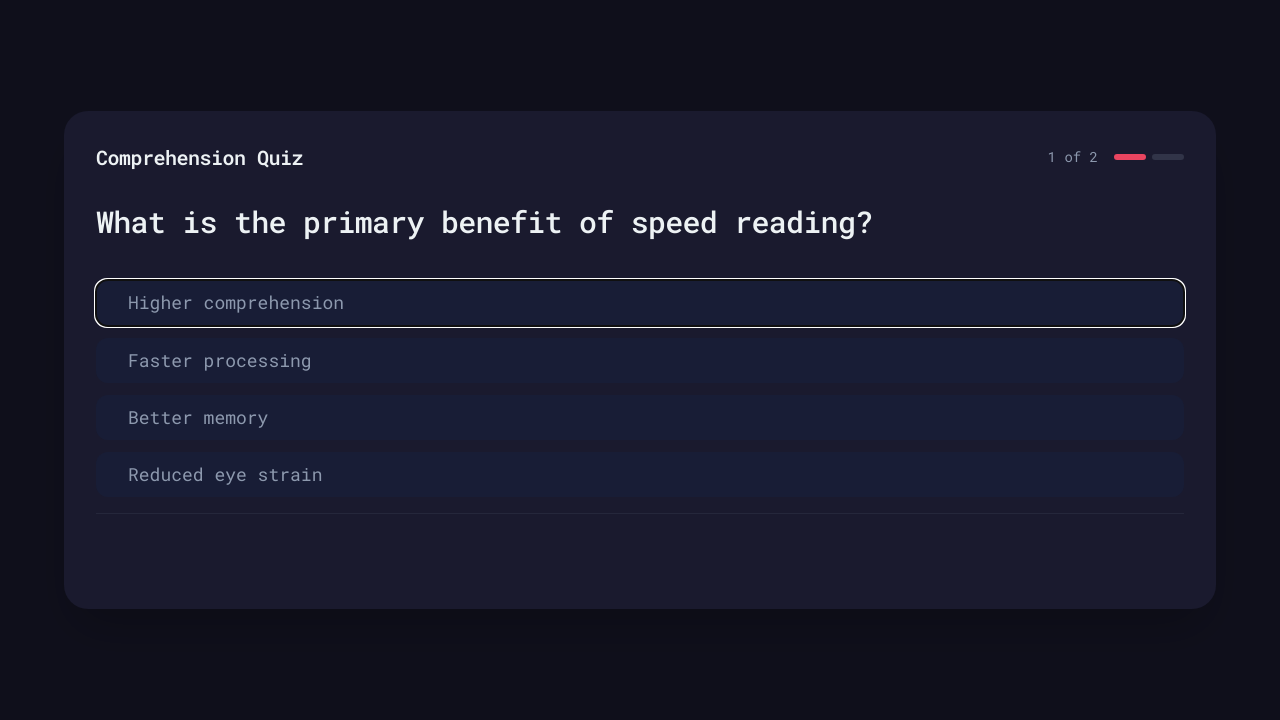
QuizModal › Anonymous User Flow › shows "Close" instead of "Save & Close" for anonymous users
Expected: the heading "Comprehension Quiz" is shown, [96,143,303,171]
Click the button "Higher comprehension": (236, 302) [96,280,1184,326]
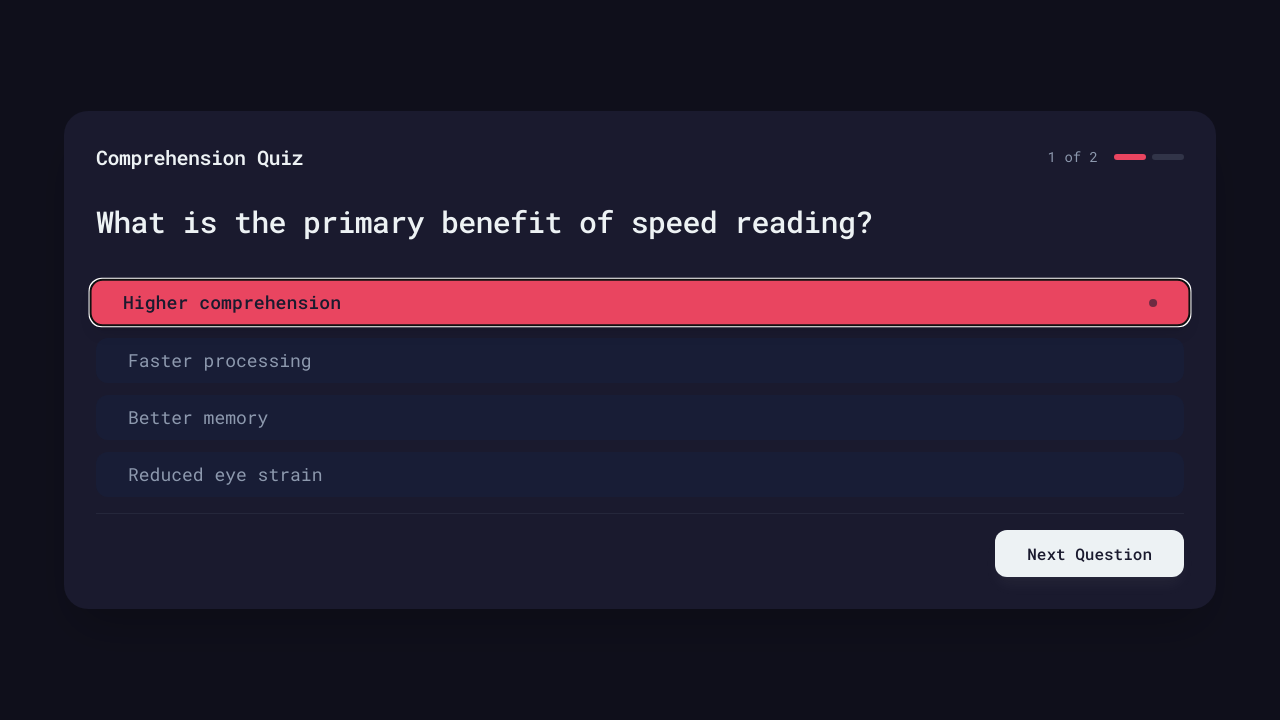
Click the button "Next Question": (1090, 554) [995,530,1184,577]
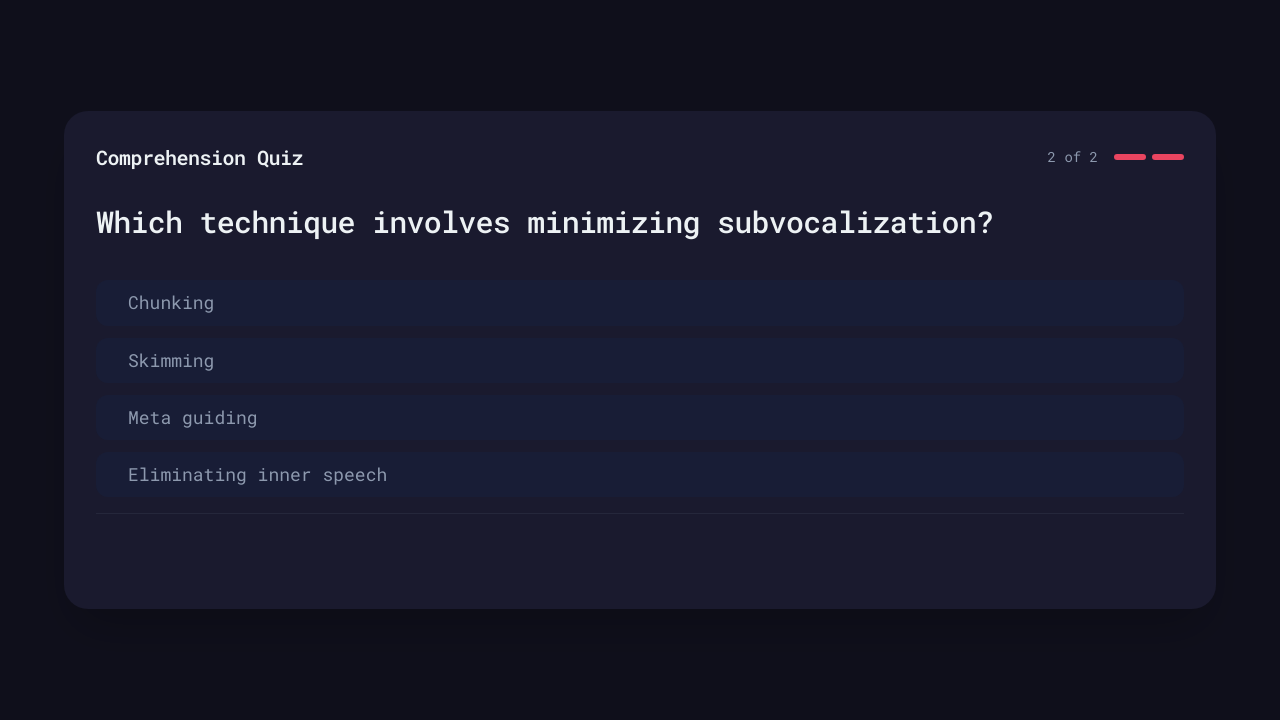
Click the button "Chunking": (171, 302) [96,280,1184,326]
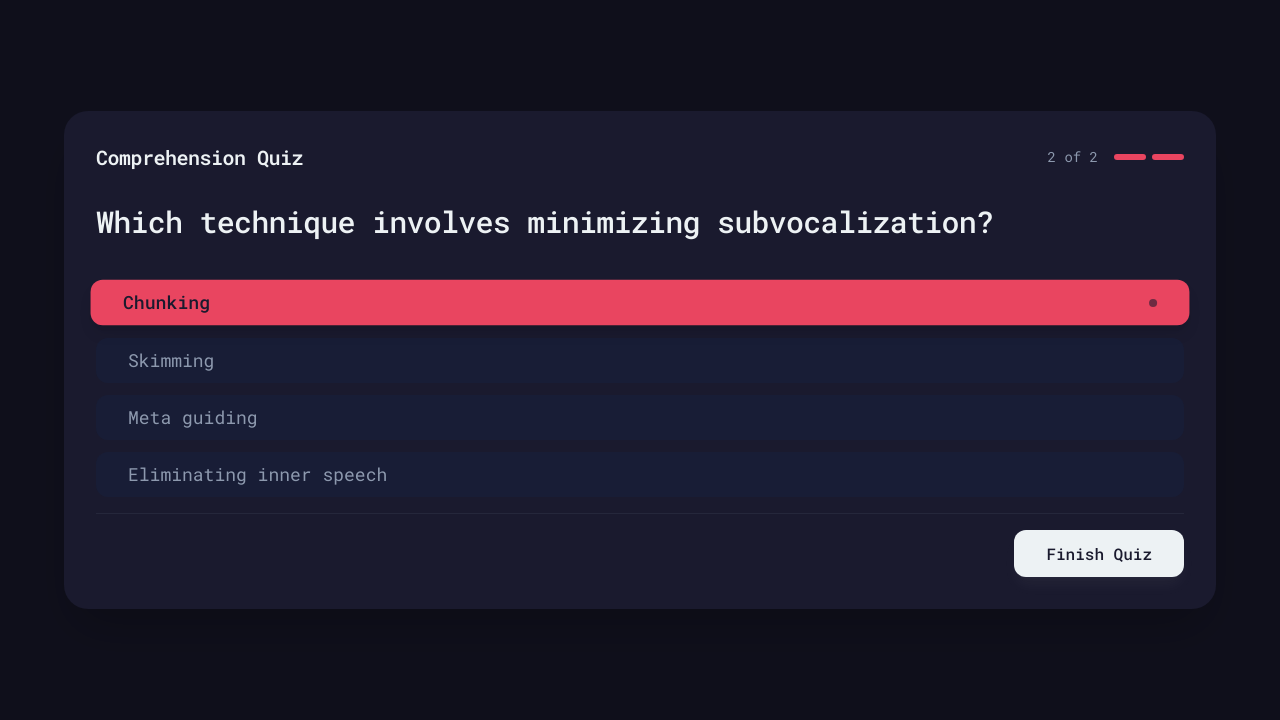
Click the button "Finish Quiz": (1099, 554) [1014,530,1184,577]
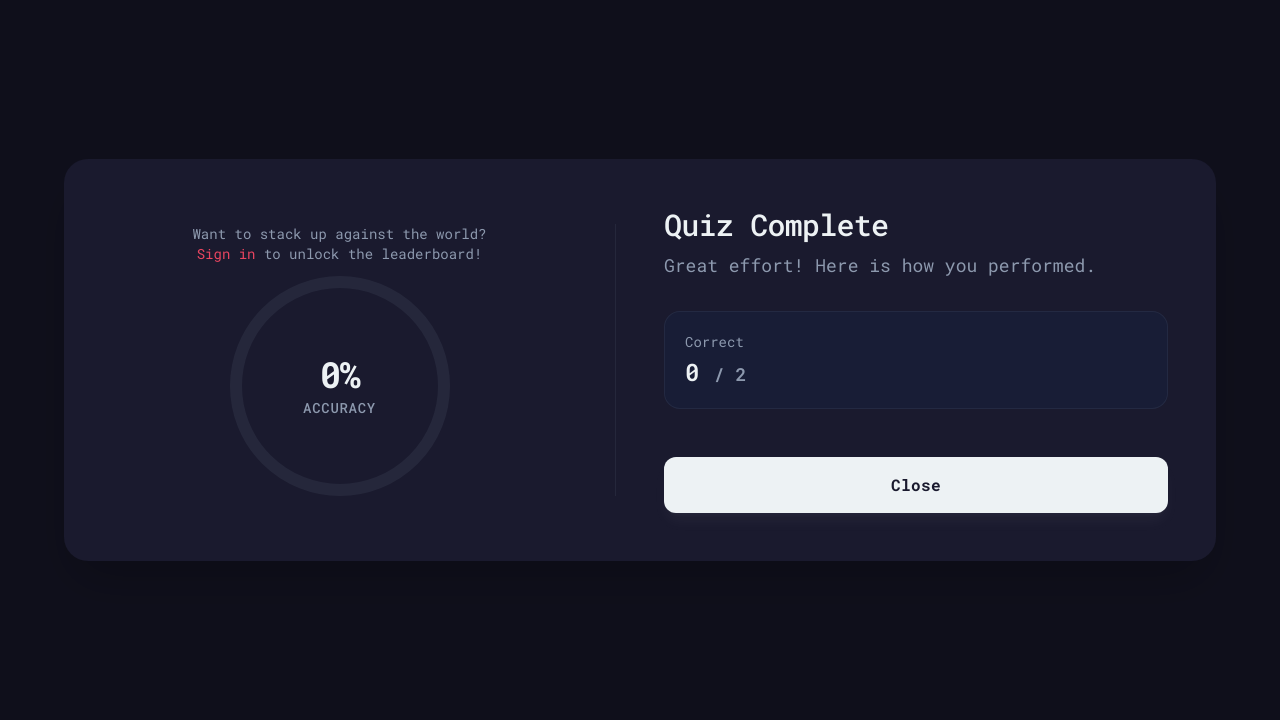
Expected: the button "Close" is shown, [664,457,1168,513]
